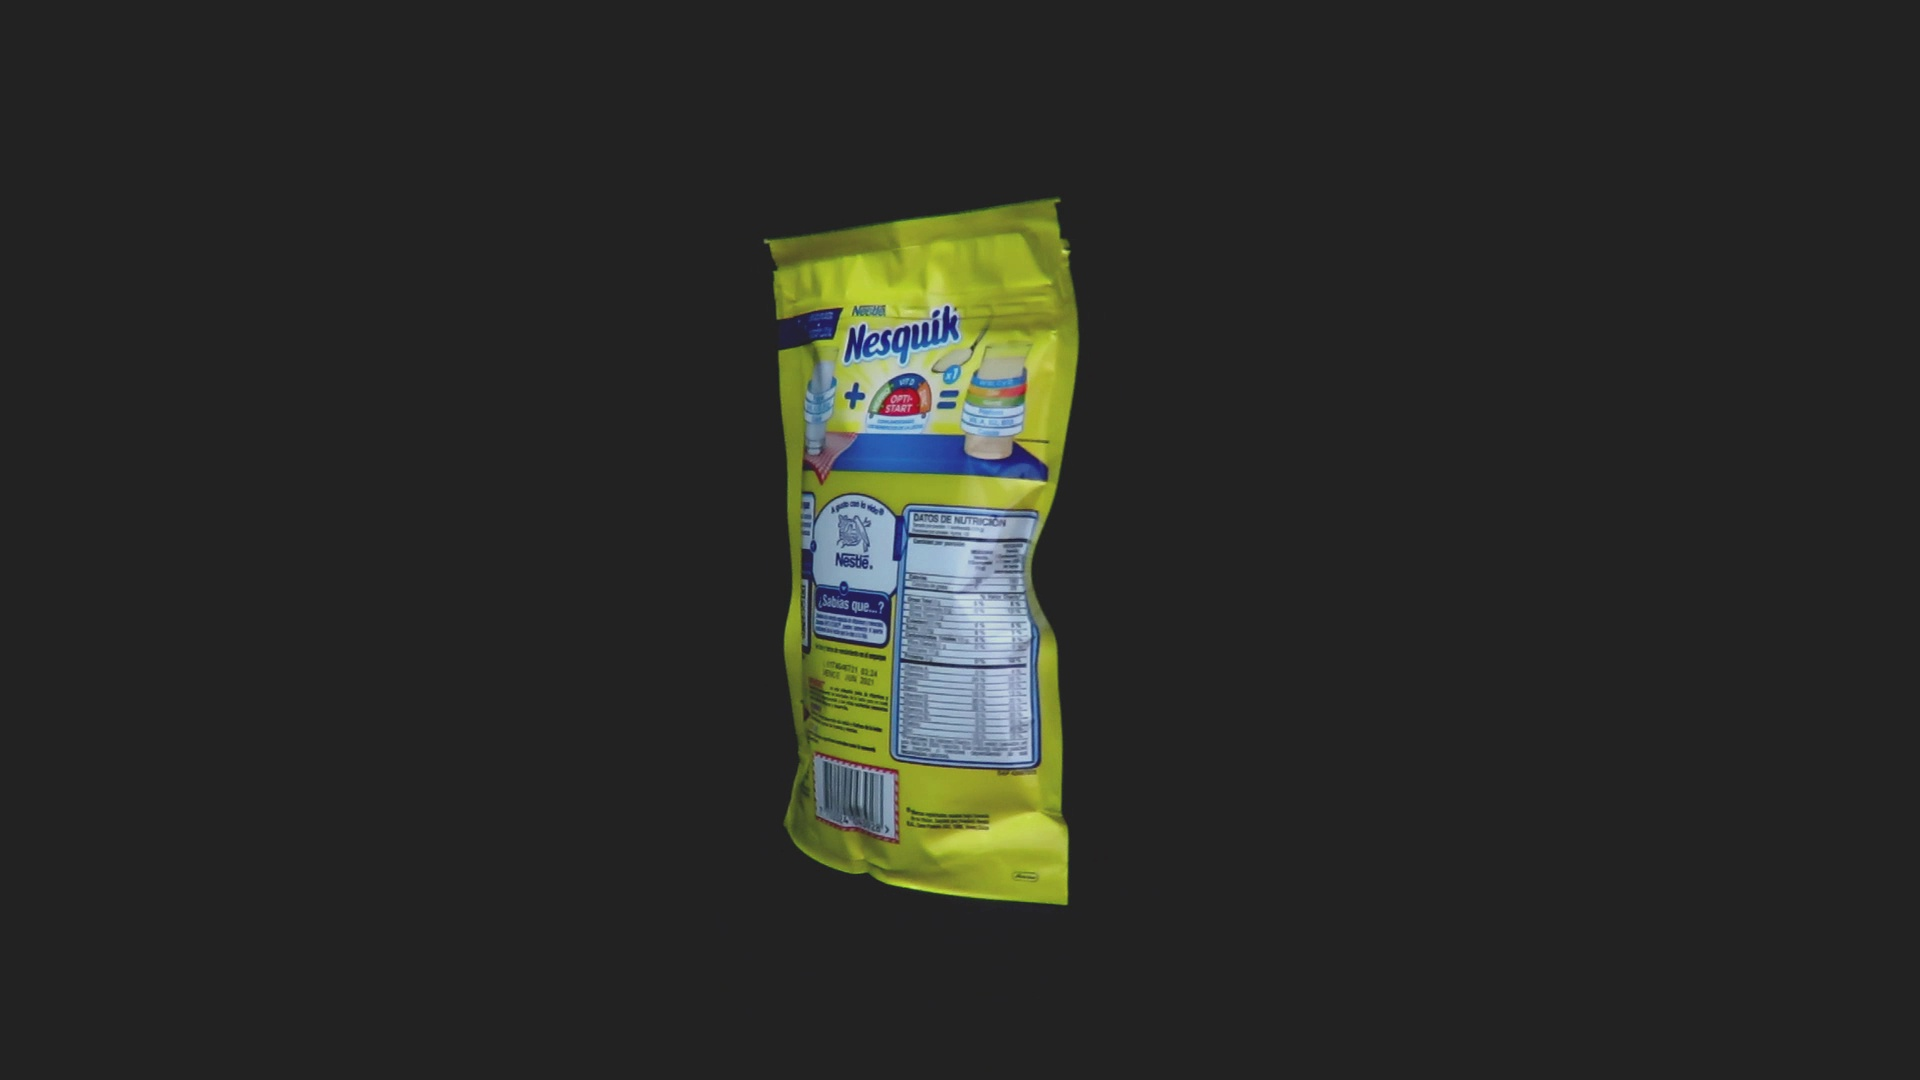COL0170306DYP20000: (760, 193, 1085, 911)
